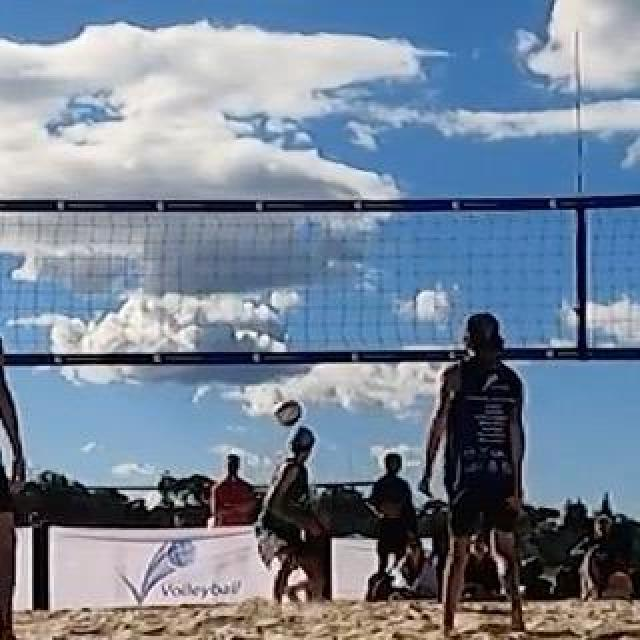volleyball: (275, 401, 299, 427)
